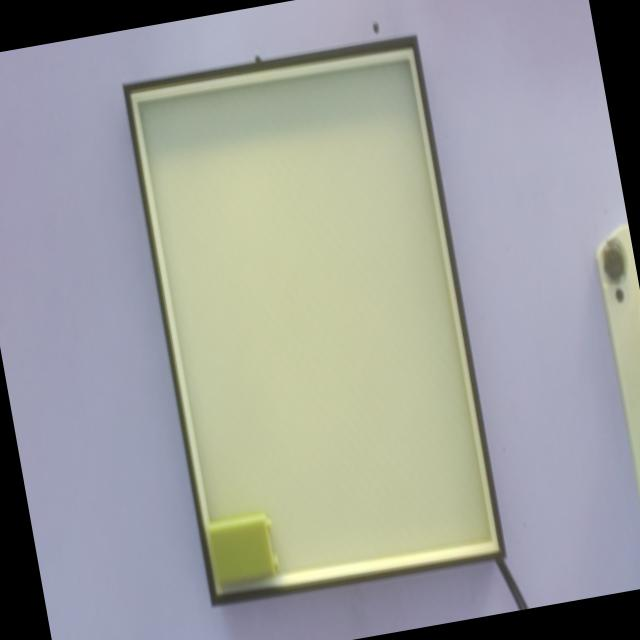bateria: (205, 511, 279, 586)
mesa: (121, 35, 508, 607)
